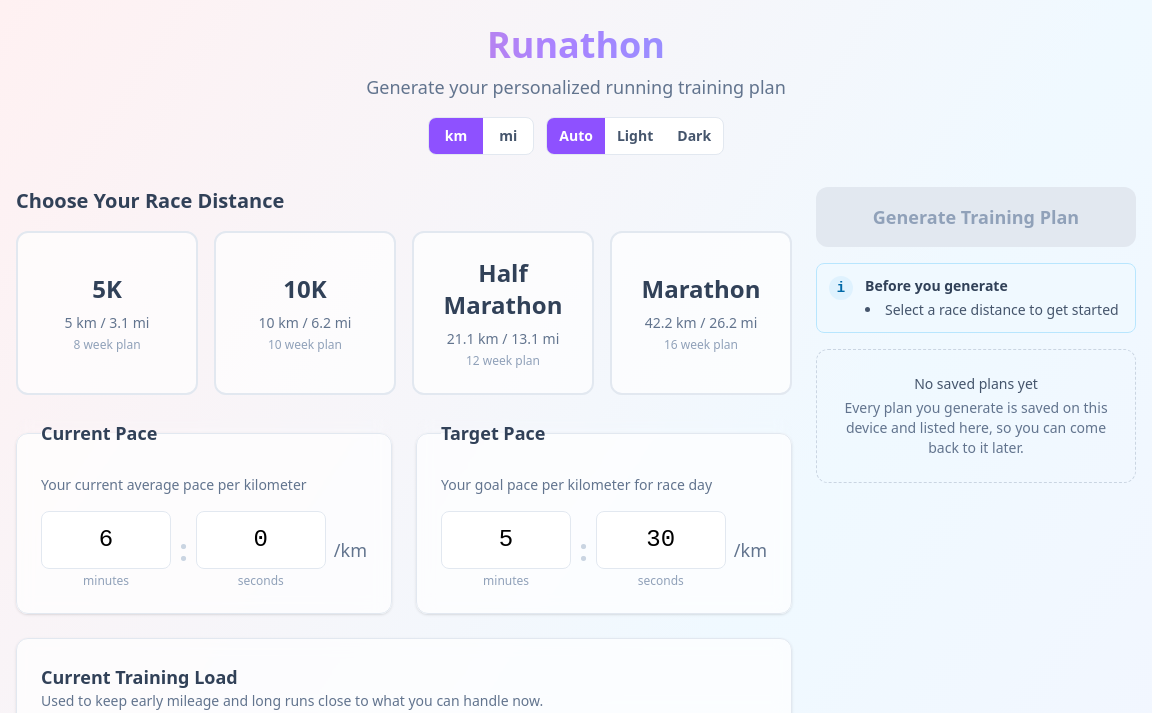
App › applies schedule preferences to the generated plan
What coordinates should you click on to do the following:
click the button with aria-label "10K, 10 kilometers"
I would click on:
 (305, 313)
Its box is 214,231 -> 396,395.
(page scrolled)
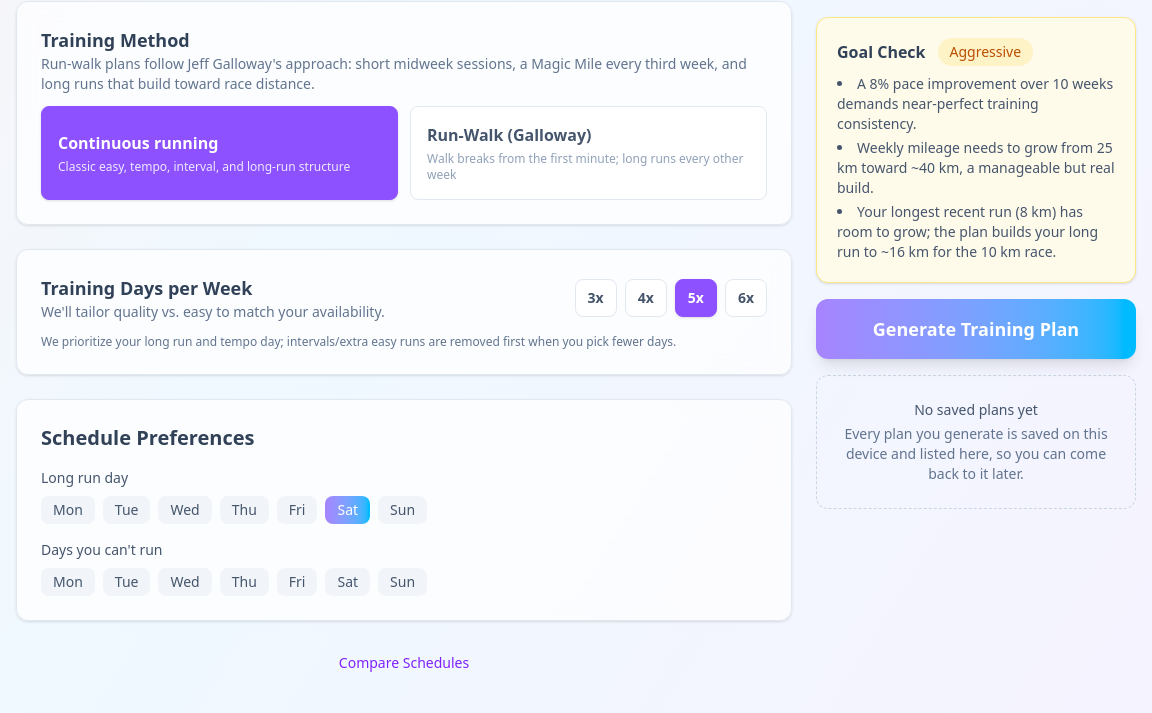
What coordinates should you click on to do the following:
click the button with aria-label "Long run on Wednesday"
I would click on:
 (185, 510)
Its box is 158,496 -> 212,524.
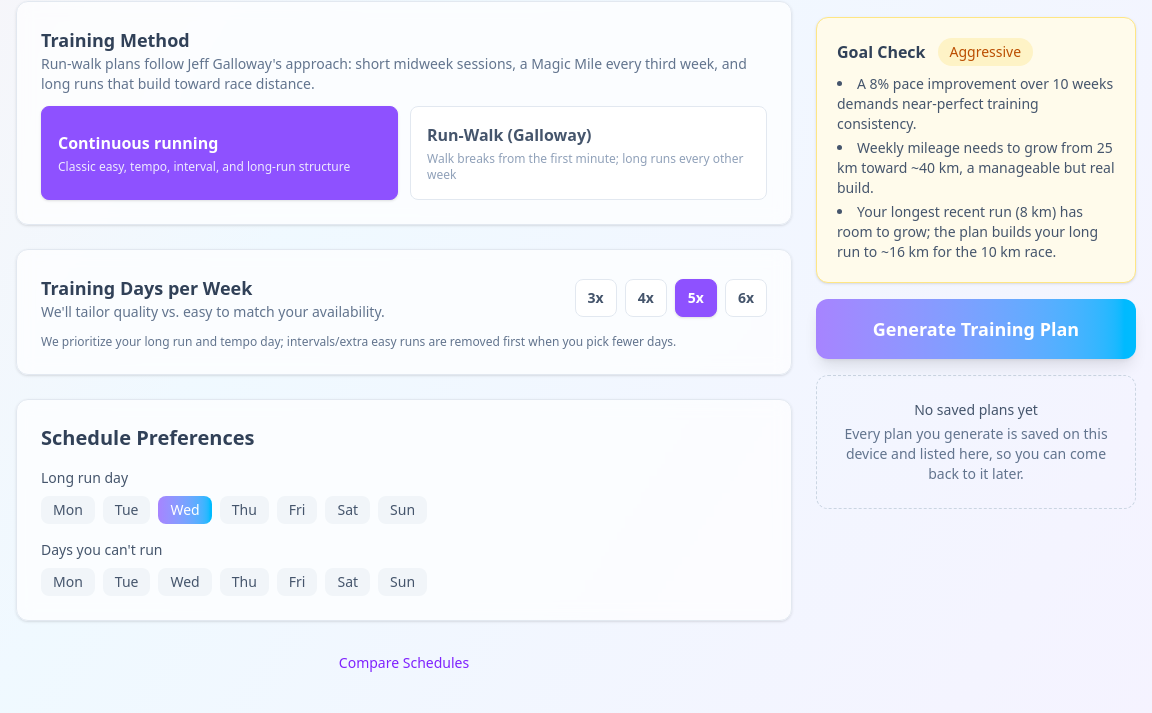
What coordinates should you click on to do the following:
click the button with aria-label "Tuesday unavailable"
I would click on:
 (127, 582)
Its box is 103,568 -> 150,596.
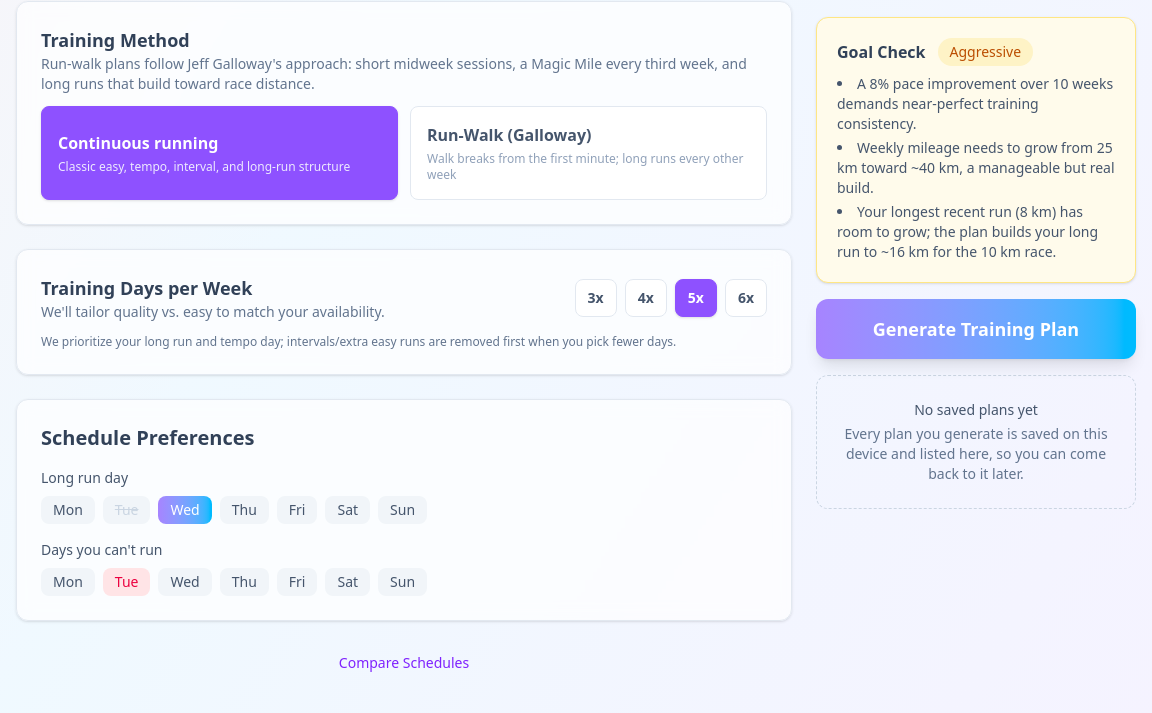
What coordinates should you click on to do the following:
click the button with aria-label "generate your personalized training plan"
I would click on:
 (976, 329)
Its box is 816,299 -> 1136,359.
(page scrolled)
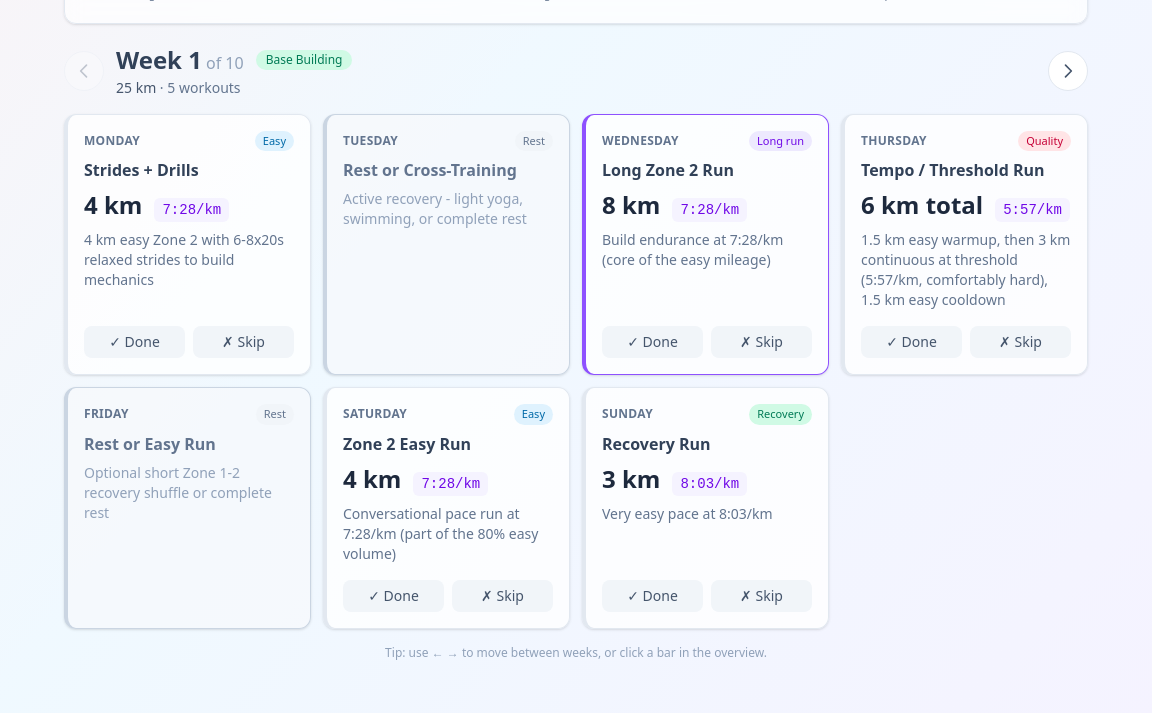
Expected: the text "Monday" is shown 7 times
Expected: the text "Long Zone 2 Run" shows "Wednesday", 602,132 -> 679,149
Expected: the text "Tuesday" shows "Rest", 523,132 -> 545,148
